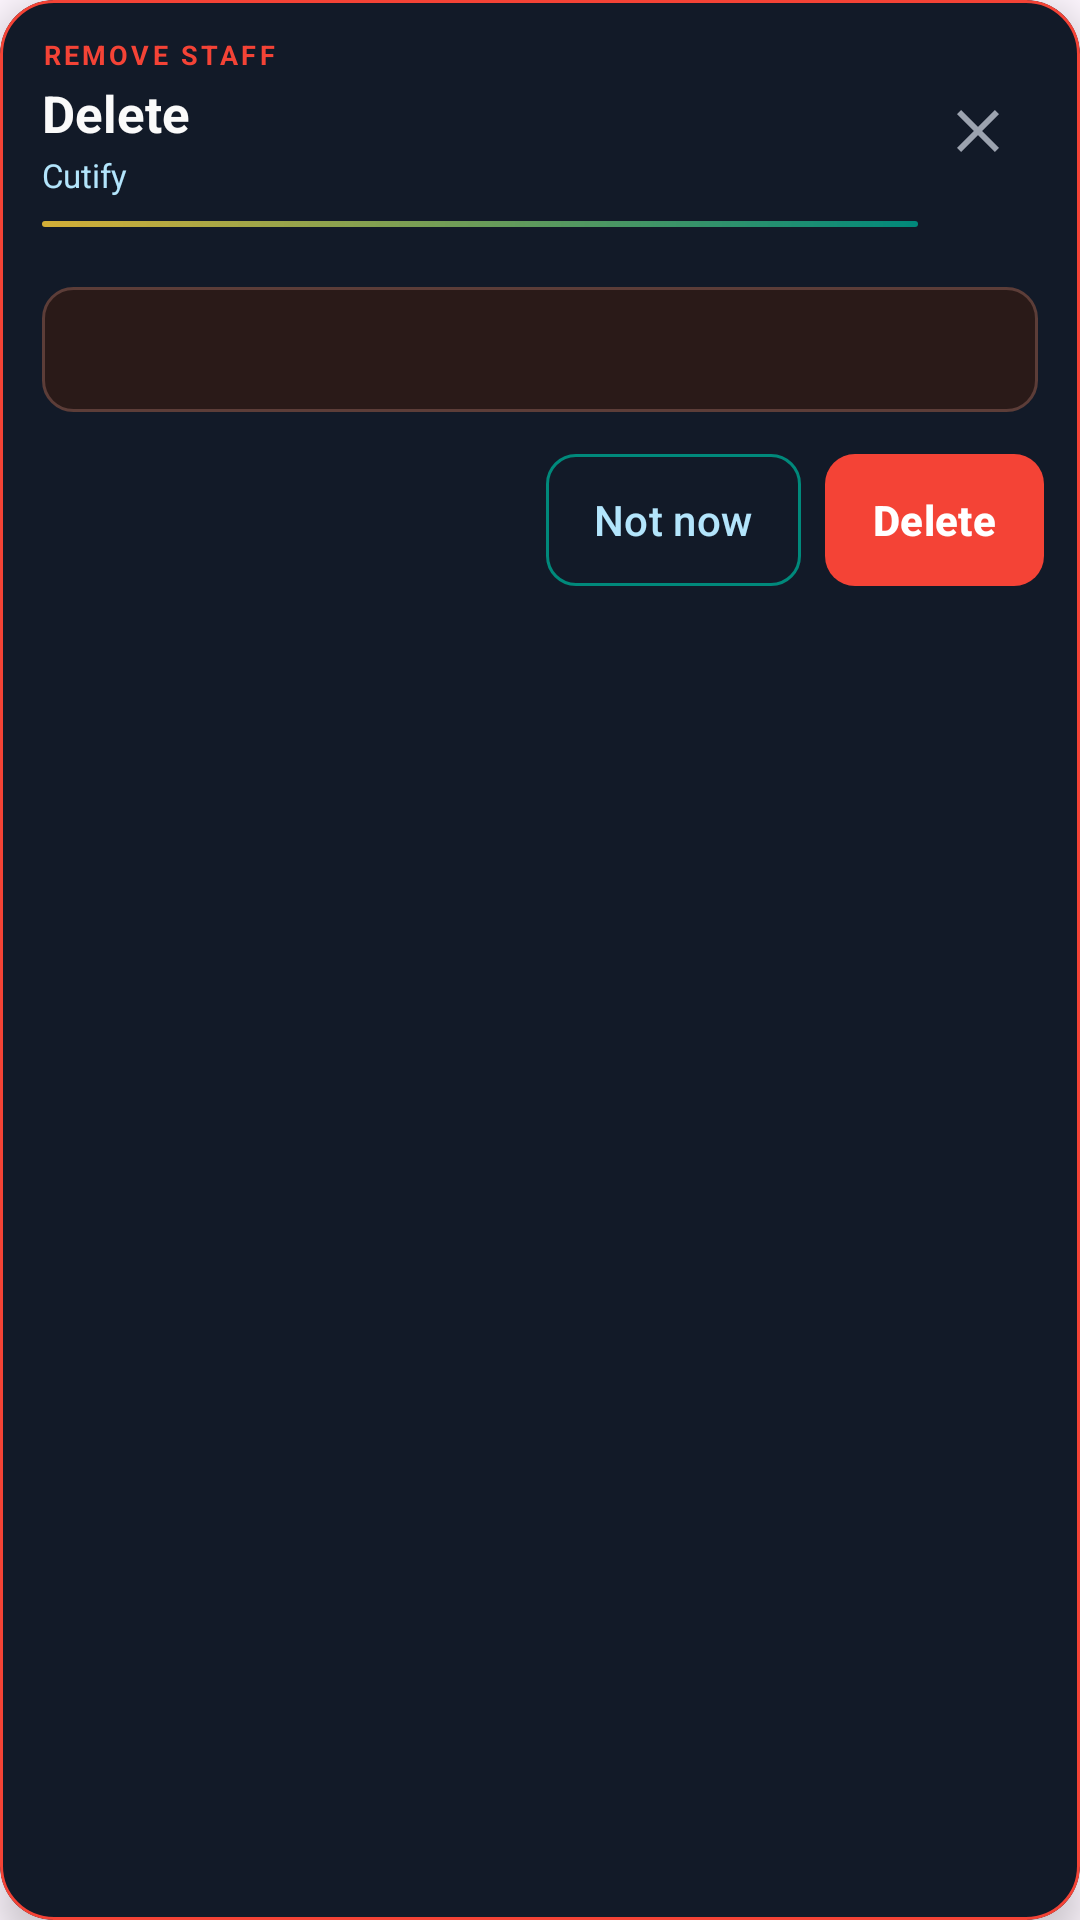

Icon bounding boxes for this 1080*1920 phone screenshot, format box=[x1, y1, x2, y2]:
Close: box=[957, 110, 999, 152]
